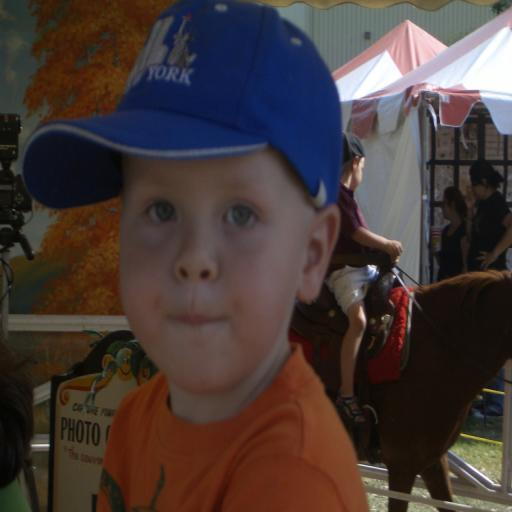horse: (310, 266, 512, 512)
